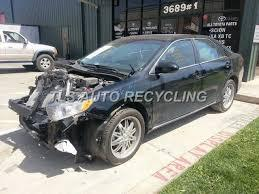bonnet-dent: (35, 61, 110, 85)
front-bumper-dent: (19, 115, 73, 144)
